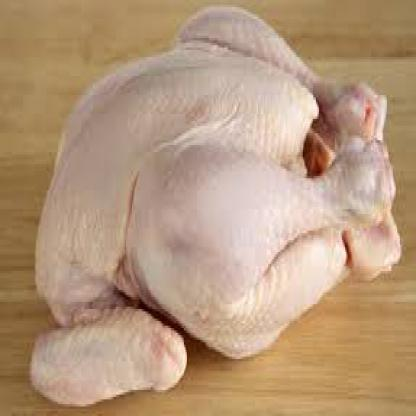chicken: (39, 17, 399, 406)
